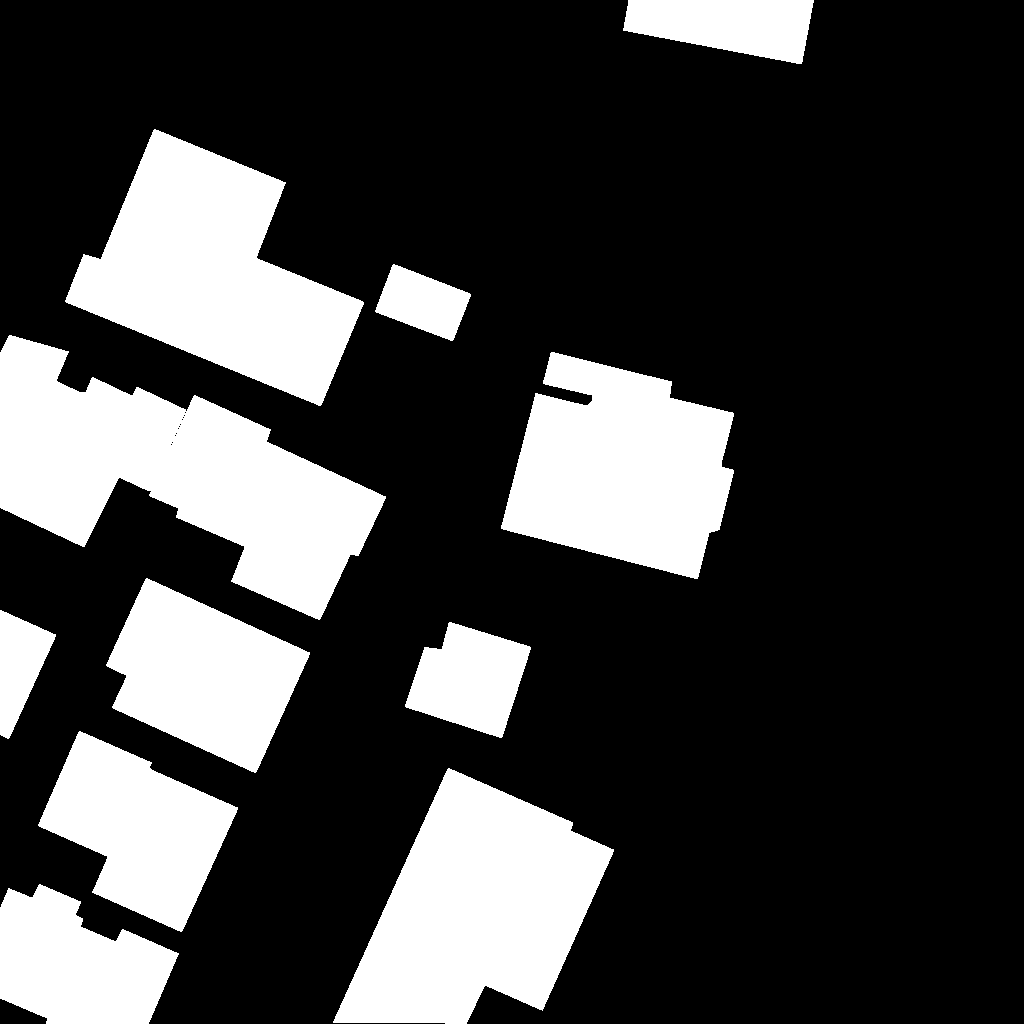building: (65, 129, 365, 407), (333, 768, 615, 1024), (149, 395, 387, 621), (501, 352, 735, 580), (38, 731, 239, 933), (106, 578, 311, 774), (0, 335, 187, 548), (0, 884, 180, 1024), (405, 622, 532, 739), (623, 0, 815, 65), (375, 264, 472, 342), (0, 610, 57, 740)
